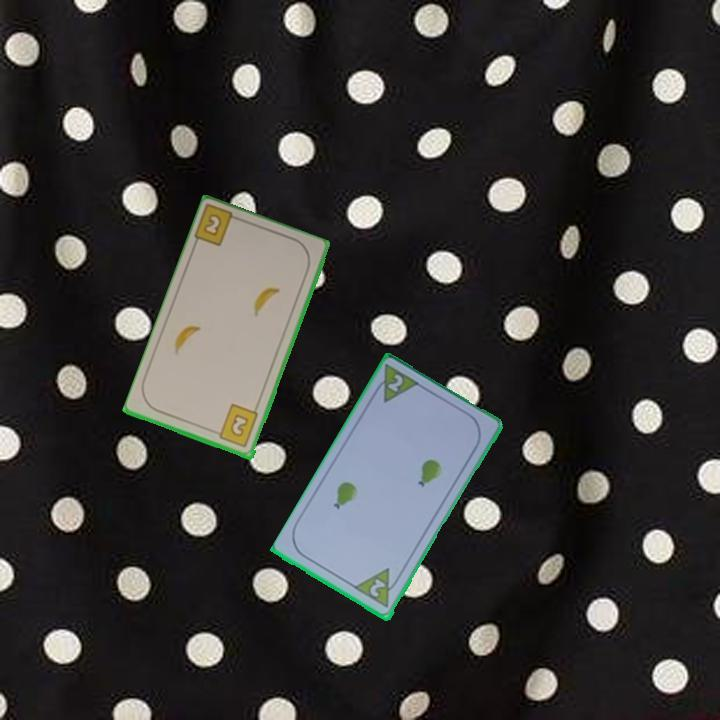2b: (192, 203, 246, 250), (210, 401, 261, 450)
2p: (366, 575, 388, 601), (384, 371, 406, 396)
